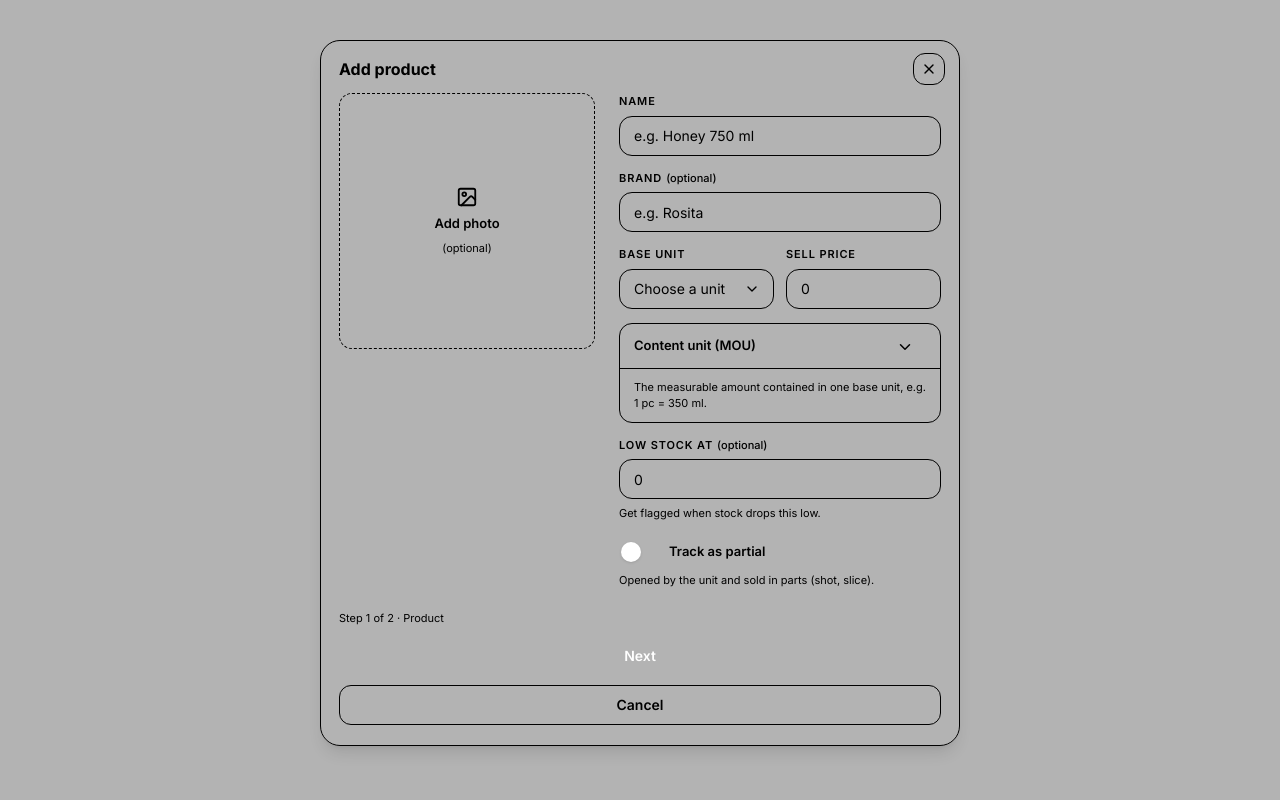
Test case: AddProductDialog › flags a content unit conflict before the sell price is filled in
The image size is (1280, 800).
Expected: the text "Content unit (MOU)" is shown, [634,336,756,355]
Type "Honey" into the field labelled "Name" at (780, 136), box [619,116,941,156]
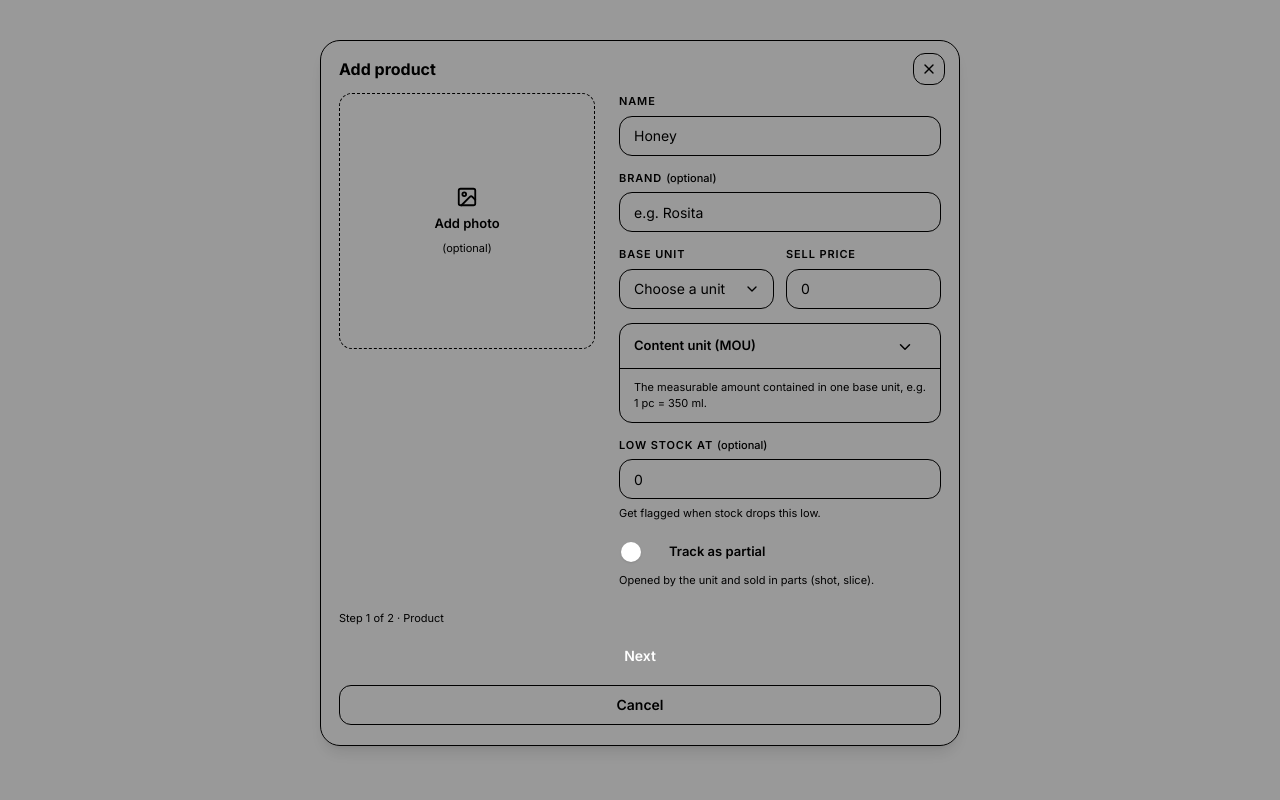
Select "Kilogram (kg)" in the dropdown labelled "Base unit" at (696, 288), box [619,268,774,308]
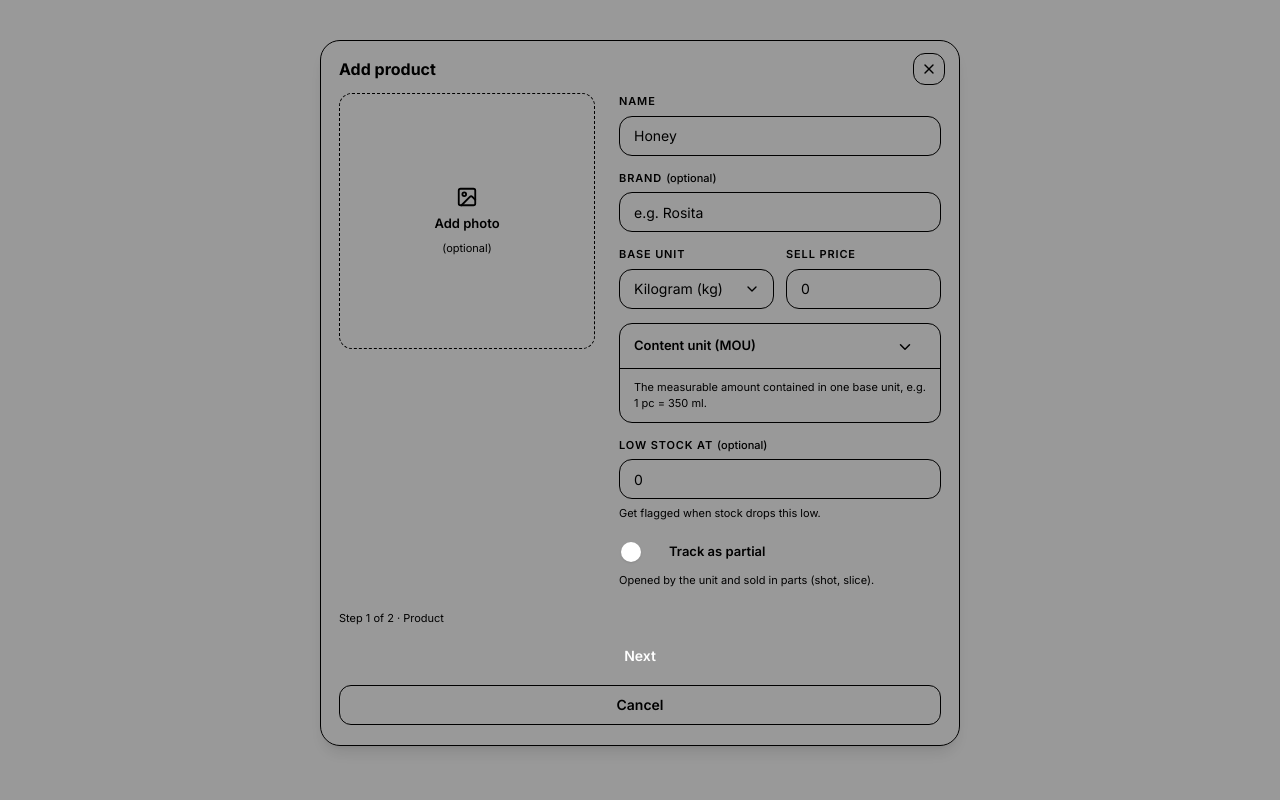
Click the button "Content unit (MOU)" at (695, 344), box [620,324,928,368]
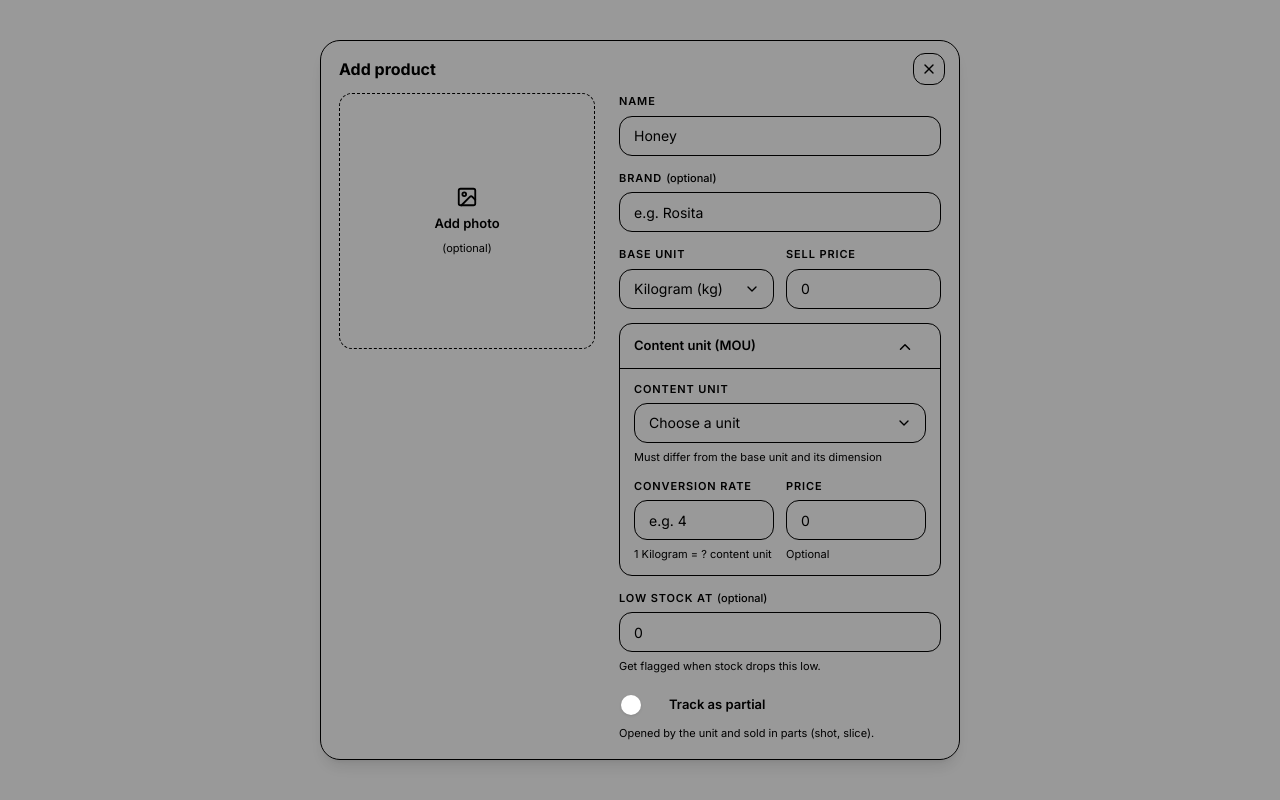
Select "Kilogram (kg)" in the dropdown labelled "Content unit" at (780, 423), box [634,403,926,443]
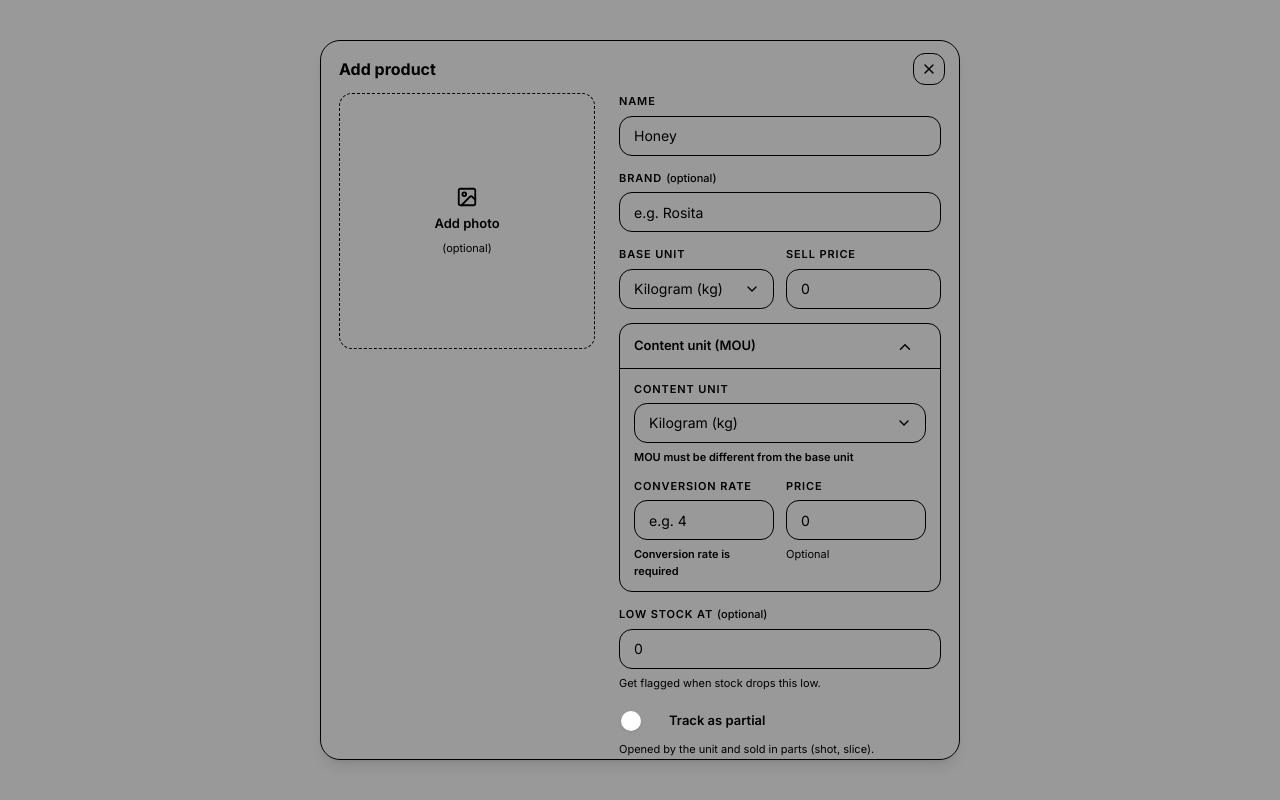
Result: the message "MOU must be different from the base unit" is shown at [634,450,854,464]
